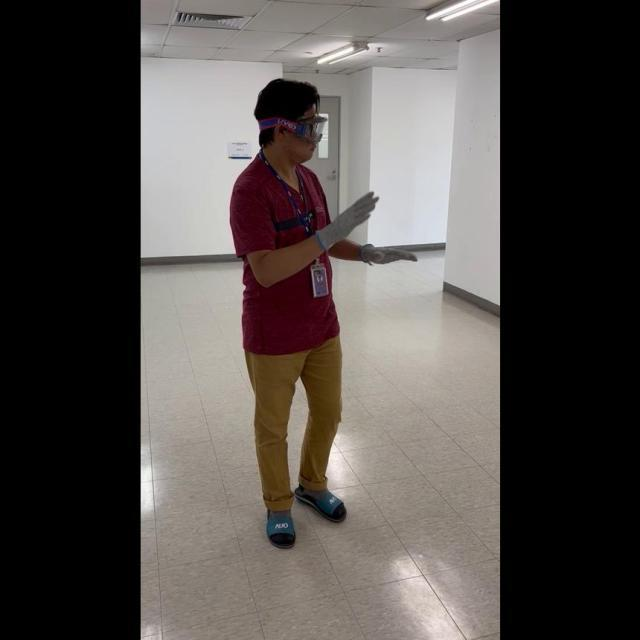gloved_hand: (312, 184, 382, 248), (356, 237, 419, 268)
